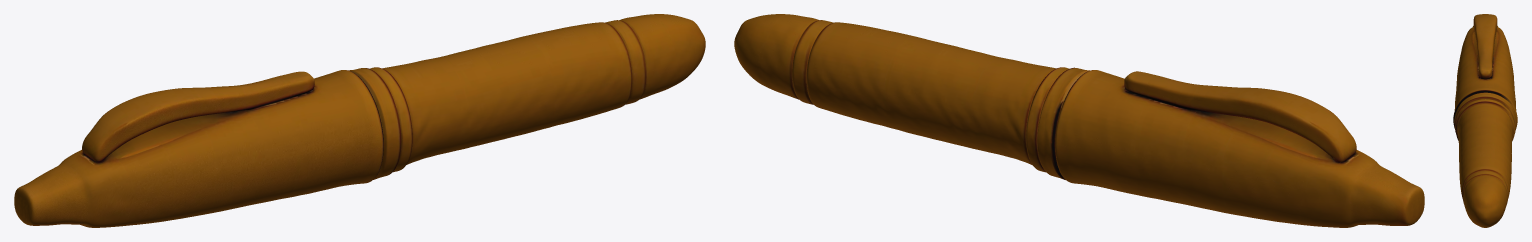
File: zunyi-pen.glb
3 views of the same model, side by side, from view 1: azimuth 30°, elevation 25°; view 2: azimuth 150°, elevation 25°; view 3: azimuth 270°, elevation 25° (orthographic). The views are drawn at different scales.
Parts seen in each view (by area): view 1: tripo_node_369f0ded-1130-498e-9728-9acb212be25e; view 2: tripo_node_369f0ded-1130-498e-9728-9acb212be25e; view 3: tripo_node_369f0ded-1130-498e-9728-9acb212be25e.
Part boxes in pixels (bbox=[...]): tripo_node_369f0ded-1130-498e-9728-9acb212be25e: bbox=[14, 14, 705, 227]; tripo_node_369f0ded-1130-498e-9728-9acb212be25e: bbox=[734, 14, 1424, 227]; tripo_node_369f0ded-1130-498e-9728-9acb212be25e: bbox=[1453, 14, 1517, 227].
Bounding box in the file's own units: 0.9813 × 0.1796 × 0.1402.
1 material, 1 textured.
